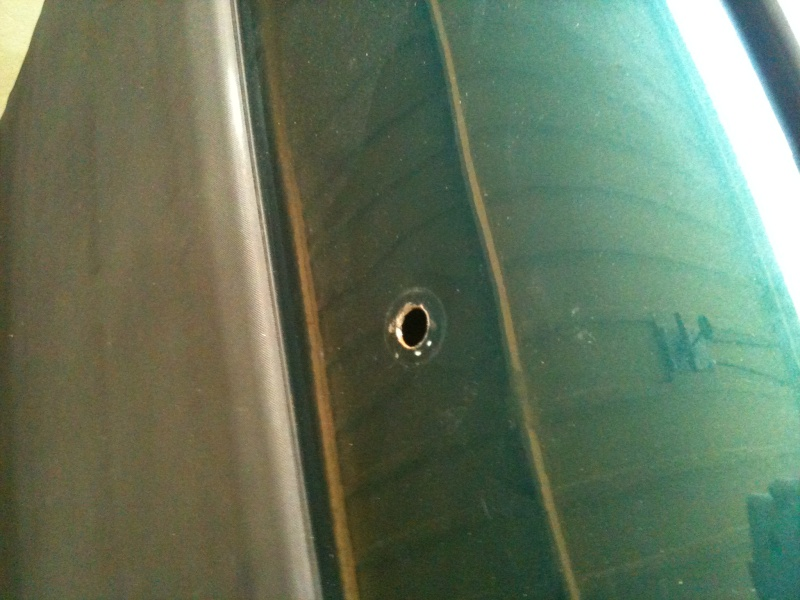hole: (397, 307, 431, 352)
